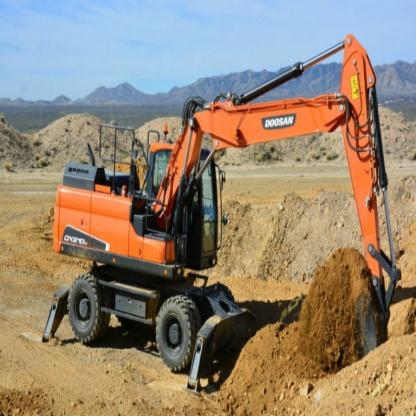excavator: (25, 21, 402, 386)
